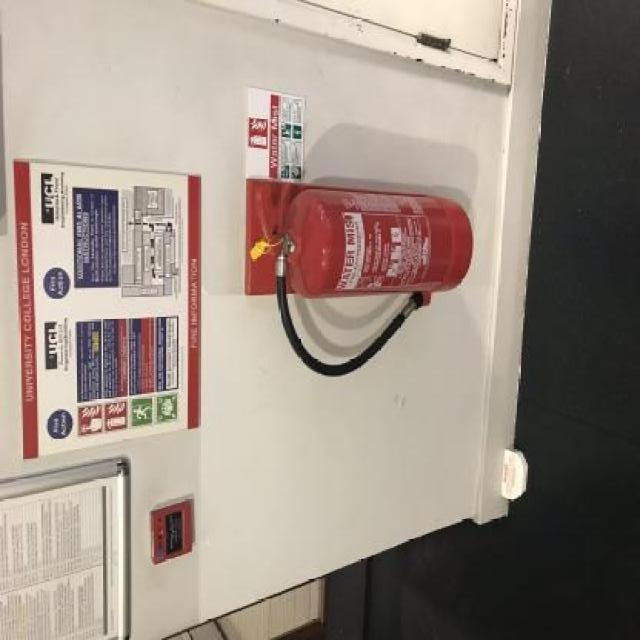fire extinguisher: (251, 186, 477, 374)
